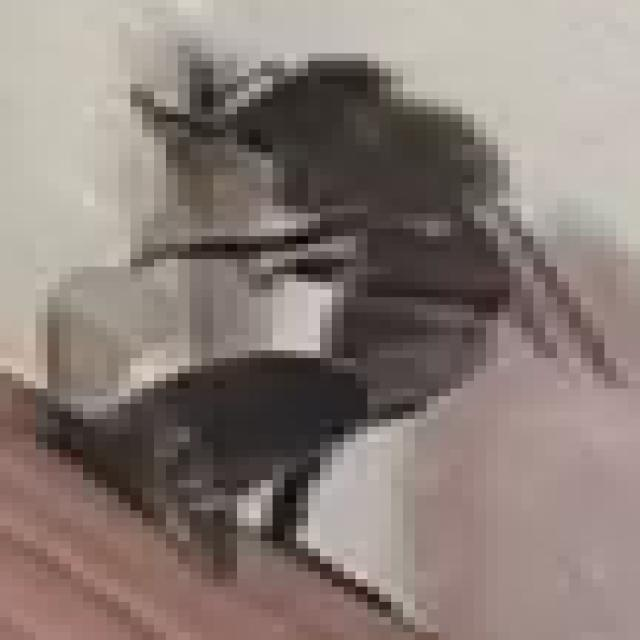honeybee: (141, 45, 581, 372), (48, 328, 375, 580)
